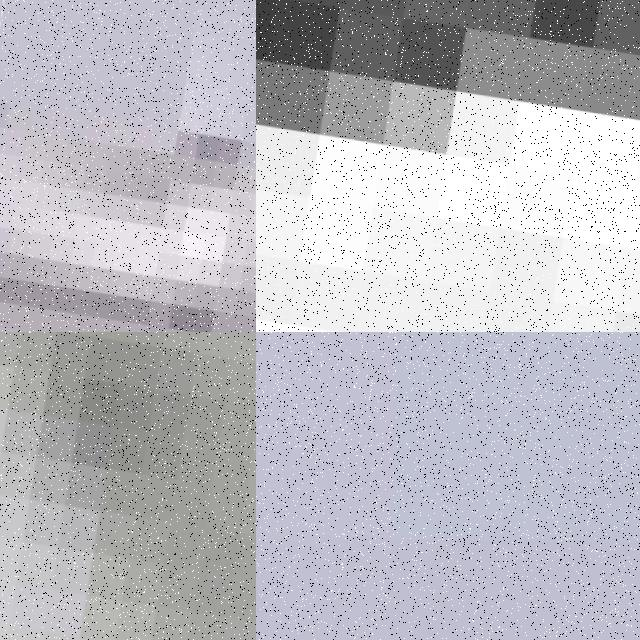drone: (256, 0, 640, 332), (0, 0, 256, 332), (0, 332, 256, 640)
